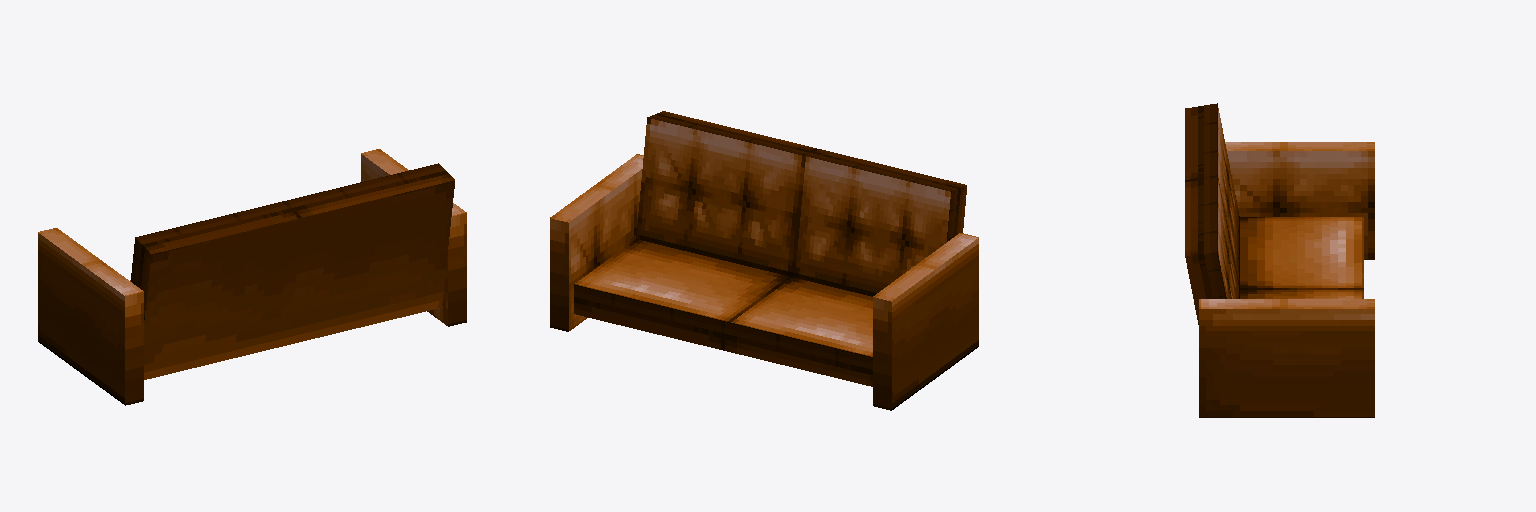
The picture shows the model from 3 angles: view 1: azimuth 30°, elevation 25°; view 2: azimuth 150°, elevation 25°; view 3: azimuth 270°, elevation 25°; orthographic projection.
Parts seen in each view (by area): view 1: cube; view 2: cube; view 3: cube.
Part boxes in pixels (x1,y1,x2,y2): cube: (38,149,466,405); cube: (550,111,978,410); cube: (1185,103,1374,417).
Bounding box in the file's own units: 1.12 × 0.4934 × 0.54.
1 materials, 1 textured.